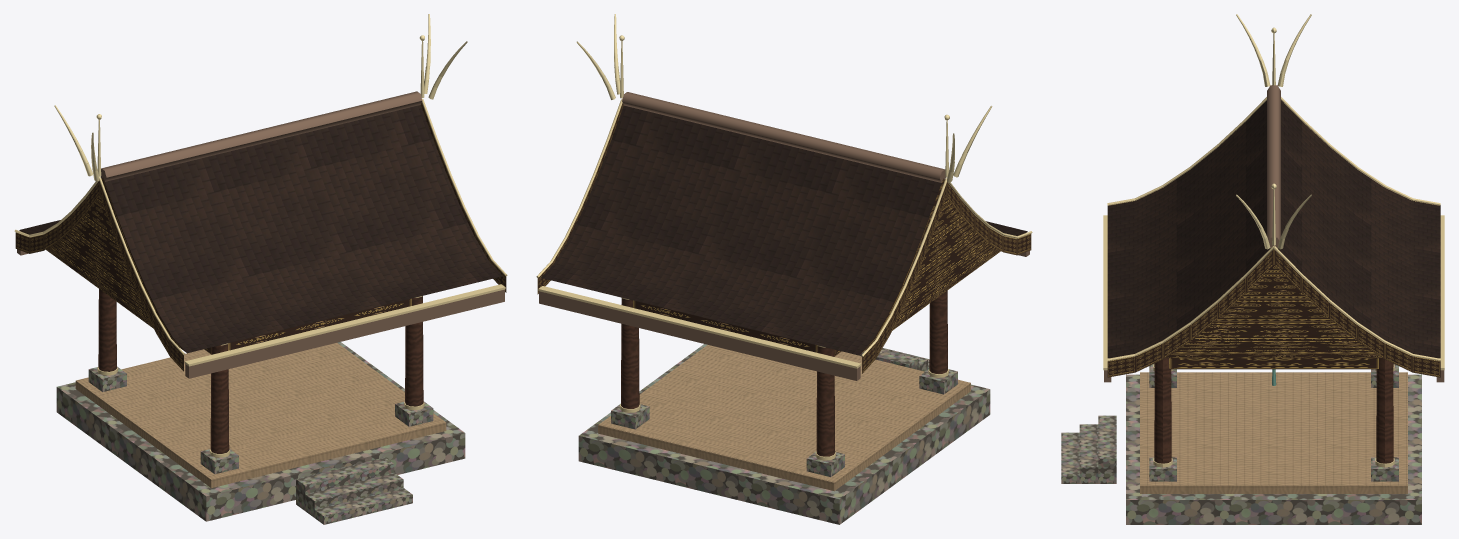
The model's file is pavilion-placeholder.glb.
3 views of the same model, side by side, from view 1: azimuth 30°, elevation 25°; view 2: azimuth 150°, elevation 25°; view 3: azimuth 270°, elevation 25° (orthographic).
Visible parts, largest first — view 1: pavilion_placeholder; view 2: pavilion_placeholder; view 3: pavilion_placeholder.
Boxes of the visible parts, <box> form: pavilion_placeholder: <box>14,14,507,524</box>; pavilion_placeholder: <box>536,14,1032,524</box>; pavilion_placeholder: <box>1061,14,1444,524</box>.
Size of the model in its own units: 9.27 by 8.55 by 8.29.
10 materials, 5 textured.
